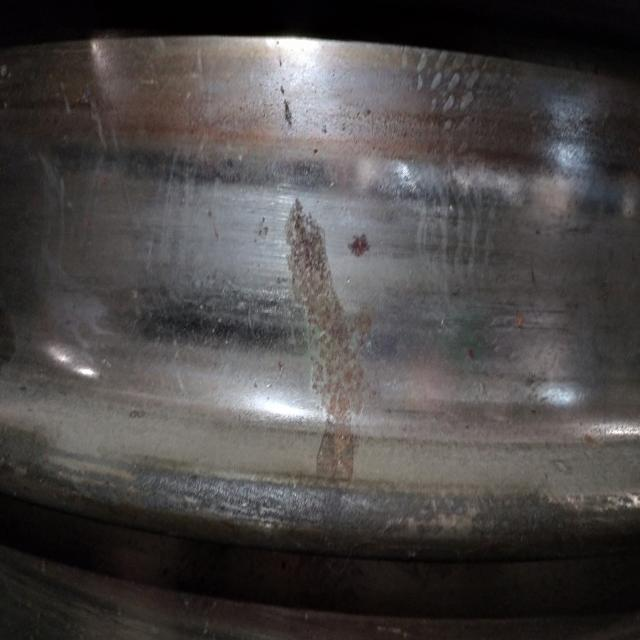Rollerpile: (283, 197, 373, 495)
